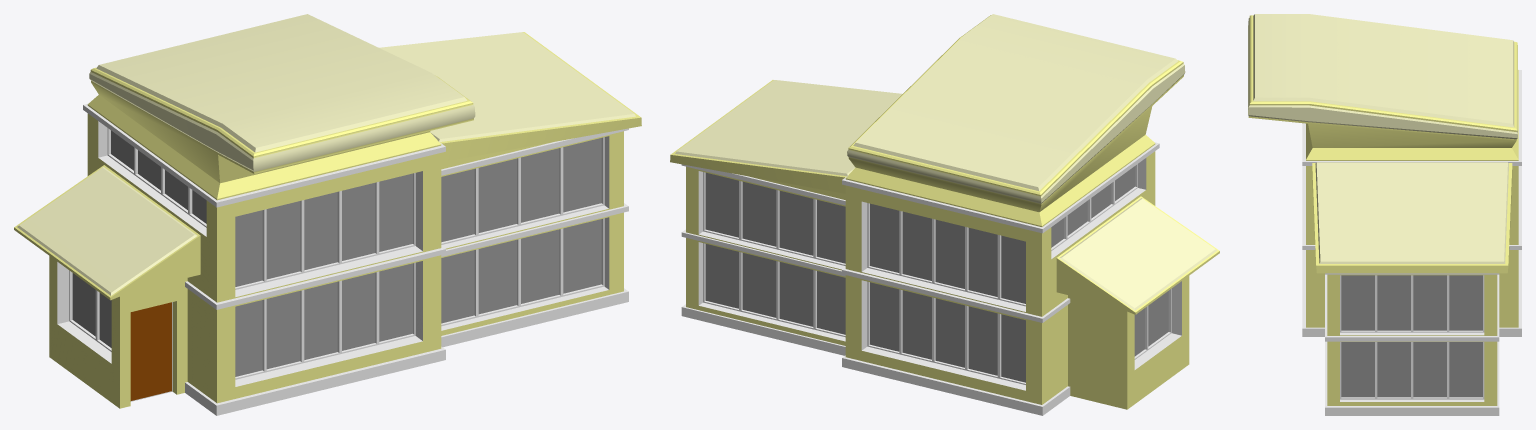
The model's file is SM_House_09_04.FBX.
The picture shows the model from 3 angles, left to right: view 1: azimuth 30°, elevation 25°; view 2: azimuth 150°, elevation 25°; view 3: azimuth 270°, elevation 25°; orthographic projection. The views are drawn at different scales.
Parts seen in each view (by area): view 1: SM_House_09_04; view 2: SM_House_09_04; view 3: SM_House_09_04.
Part boxes in pixels (box(x1,y1,x2,y2)): SM_House_09_04: box(14, 14, 641, 415); SM_House_09_04: box(670, 14, 1219, 415); SM_House_09_04: box(1248, 14, 1521, 415).
Bounding box in the file's own units: 13.96 × 7.33 × 7.72.
1 material, 1 textured.
